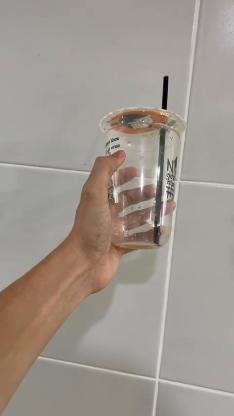Plastic Cup: (100, 110, 188, 250)
